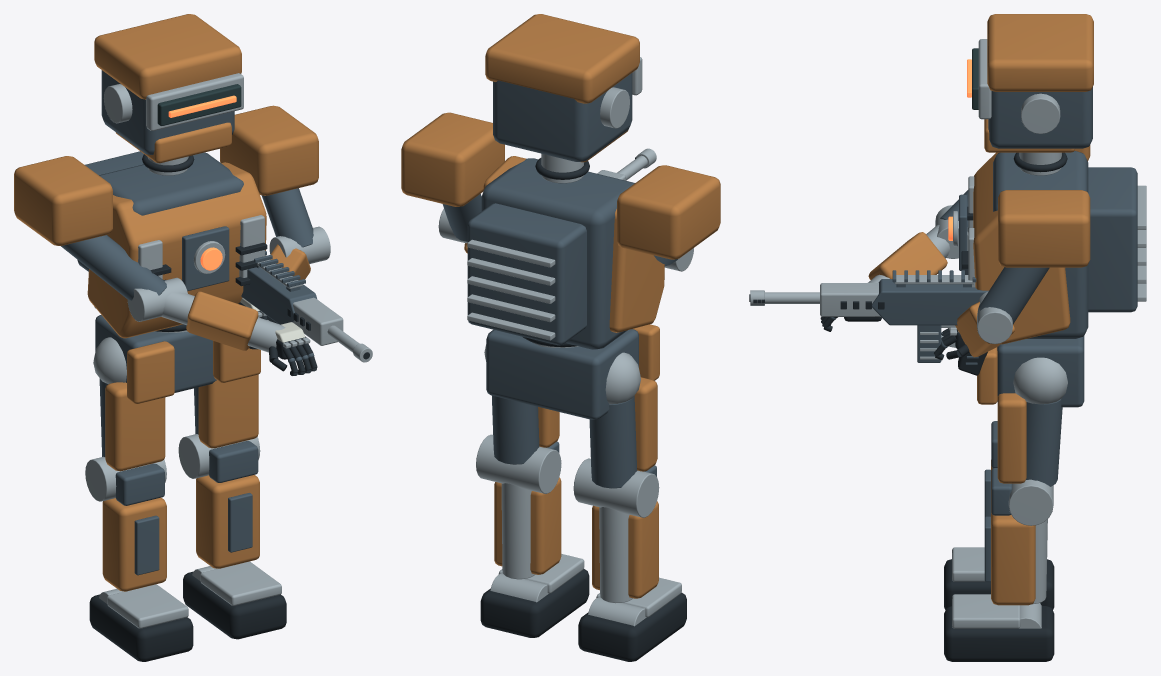
File: robot-assault-v04.glb
3 views of the same model, side by side, from view 1: azimuth 30°, elevation 25°; view 2: azimuth 150°, elevation 25°; view 3: azimuth 270°, elevation 25° (orthographic). The views are drawn at different scales.
Parts seen in each view (by area): view 1: head / Ochre armour, torso / Ochre armour, torso / Cerakote midnight, arm_L / Ochre armour, arm_R / Ochre armour, leg_L / Ochre armour, shin_L / Ochre armour, hips / Ochre armour, shin_R / Ochre armour, leg_R / Ochre armour, shin_L / Elastomer, shin_R / Elastomer (+26 smaller); view 2: torso / Cerakote midnight, head / Ochre armour, hips / Cerakote midnight, arm_L / Ochre armour, head / Cerakote midnight, arm_R / Ochre armour, shin_L / Titanium, shin_R / Titanium, torso / Ochre armour, torso / Titanium, shin_R / Elastomer, shin_L / Elastomer (+15 smaller); view 3: torso / Cerakote midnight, head / Ochre armour, arm_R / Ochre armour, torso / Ochre armour, head / Cerakote midnight, integrated_enemy_weapon / Cerakote midnight, shin_R / Elastomer, shin_R / Ochre armour, shin_R / Titanium, hips / Cerakote midnight, integrated_enemy_weapon / Titanium, leg_R / Cerakote midnight (+16 smaller).
Part boxes in pixels (x1=…): head / Ochre armour: x1=94, y1=14, x2=241, y2=163; torso / Ochre armour: x1=87, y1=162, x2=266, y2=338; torso / Cerakote midnight: x1=77, y1=151, x2=243, y2=308; arm_L / Ochre armour: x1=14, y1=156, x2=112, y2=245; arm_R / Ochre armour: x1=220, y1=105, x2=318, y2=195; leg_L / Ochre armour: x1=105, y1=382, x2=165, y2=471; shin_L / Ochre armour: x1=102, y1=497, x2=166, y2=591; hips / Ochre armour: x1=127, y1=341, x2=260, y2=403; shin_R / Ochre armour: x1=196, y1=475, x2=259, y2=568; leg_R / Ochre armour: x1=198, y1=374, x2=258, y2=448; shin_L / Elastomer: x1=89, y1=594, x2=193, y2=661; shin_R / Elastomer: x1=183, y1=571, x2=286, y2=639; torso / Cerakote midnight: x1=467, y1=158, x2=634, y2=349; head / Ochre armour: x1=485, y1=14, x2=639, y2=162; hips / Cerakote midnight: x1=486, y1=329, x2=638, y2=419; arm_L / Ochre armour: x1=617, y1=165, x2=720, y2=259; head / Cerakote midnight: x1=493, y1=73, x2=632, y2=161; arm_R / Ochre armour: x1=401, y1=112, x2=504, y2=206; shin_L / Titanium: x1=588, y1=507, x2=681, y2=626; shin_R / Titanium: x1=490, y1=483, x2=584, y2=602; torso / Ochre armour: x1=483, y1=156, x2=664, y2=332; torso / Titanium: x1=467, y1=239, x2=555, y2=340; shin_R / Elastomer: x1=480, y1=569, x2=589, y2=637; shin_L / Elastomer: x1=578, y1=592, x2=686, y2=661; torso / Cerakote midnight: x1=959, y1=151, x2=1137, y2=338; head / Ochre armour: x1=984, y1=14, x2=1093, y2=152; arm_R / Ochre armour: x1=998, y1=190, x2=1090, y2=267; torso / Ochre armour: x1=973, y1=152, x2=1070, y2=344; head / Cerakote midnight: x1=988, y1=87, x2=1092, y2=148; integrated_enemy_weapon / Cerakote midnight: x1=872, y1=270, x2=988, y2=325; shin_R / Elastomer: x1=944, y1=606, x2=1054, y2=661; shin_R / Ochre armour: x1=991, y1=506, x2=1035, y2=605; shin_R / Titanium: x1=952, y1=519, x2=1047, y2=628; hips / Cerakote midnight: x1=997, y1=336, x2=1084, y2=407; integrated_enemy_weapon / Titanium: x1=750, y1=275, x2=974, y2=347; leg_R / Cerakote midnight: x1=1026, y1=399, x2=1062, y2=486.
Size of the model in its own units: 0.834 by 1.71 by 1.04.
